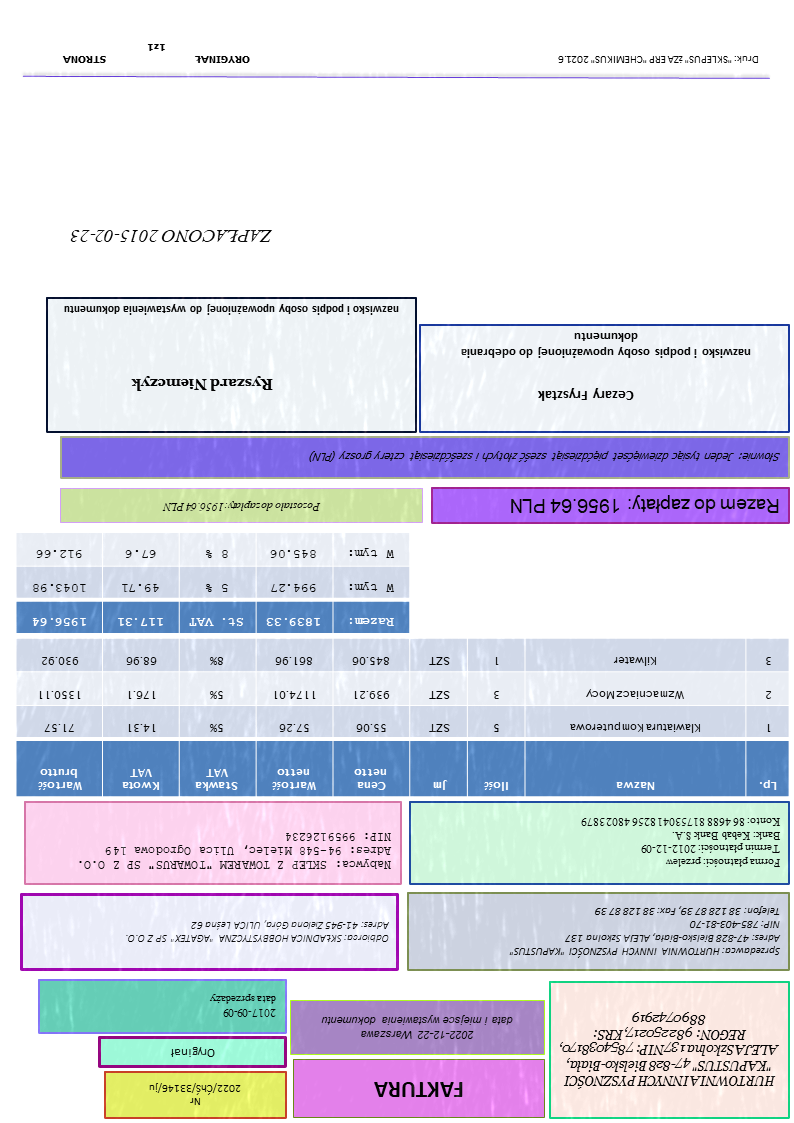Table: (15, 637, 791, 799), (14, 532, 411, 634)
TextBox: (556, 1009, 781, 1090), (507, 903, 783, 958), (75, 830, 394, 873), (578, 815, 782, 871), (458, 332, 755, 361), (307, 448, 782, 465), (124, 919, 392, 948), (509, 493, 782, 517), (62, 301, 402, 318), (319, 1013, 514, 1042), (61, 40, 254, 67), (68, 227, 275, 246), (130, 375, 274, 395), (556, 52, 761, 66), (147, 1080, 243, 1108), (160, 500, 323, 515), (372, 1078, 466, 1101), (209, 992, 279, 1021), (536, 387, 635, 404), (169, 1045, 217, 1061)
